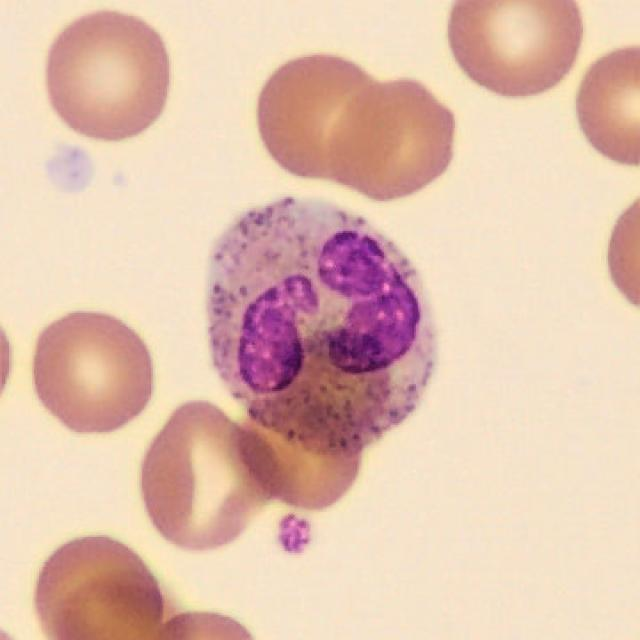Neutrofilo segmentado: (206, 199, 436, 455)
